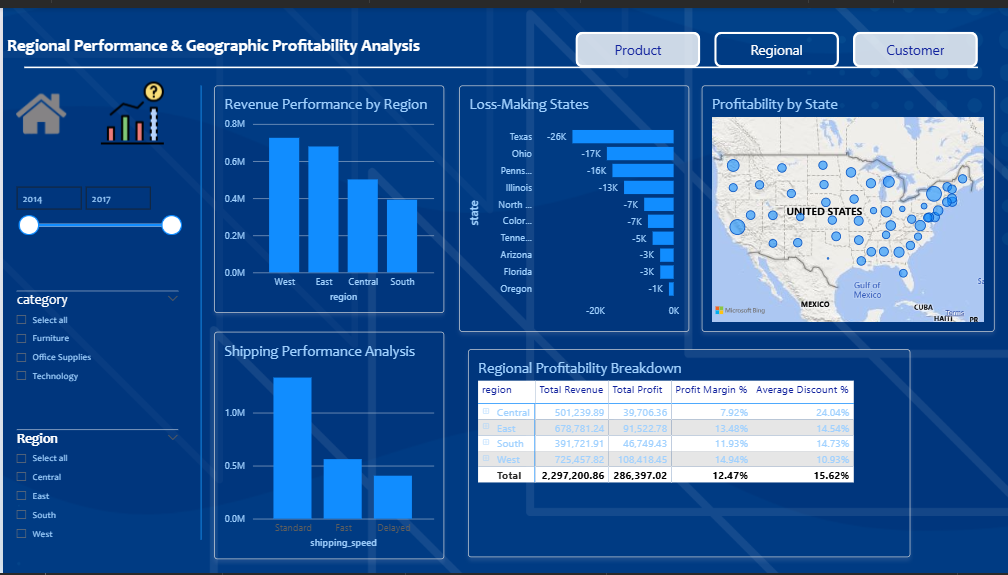

What the dashboard file says about the page in this screenshot:
{"tool":"powerbi","page":{"name":"Regional Performance","canvas":[1280,720],"ordinal":3},"visuals":[{"type":"clusteredColumnChart","title":"Revenue Performance by Region","fields":{"Category":["superstore_cleaned.region"],"Y":["superstore_cleaned.Total Revenue"]},"box":[268.6,98.3,293.1,289.4],"z":0},{"type":"map","title":"Profitability by State","fields":{"Category":["superstore_cleaned.state"],"Size":["superstore_cleaned.Total Profit"]},"box":[888.9,98.3,372.6,313.9],"z":1000},{"type":"clusteredBarChart","title":"Loss-Making States","fields":{"Category":["superstore_cleaned.state"],"Y":["superstore_cleaned.Total Profit"]},"box":[580.6,98.3,293.1,313.9],"z":2000},{"type":"clusteredColumnChart","title":"Shipping Performance Analysis","fields":{"Category":["superstore_cleaned.shipping_speed"],"Y":["superstore_cleaned.Total Revenue"]},"box":[268.6,412.3,293.1,289.4],"z":3000},{"type":"pivotTable","title":"Regional Profitability Breakdown","fields":{"Rows":["superstore_cleaned.region","superstore_cleaned.state"],"Values":["superstore_cleaned.Total Revenue","superstore_cleaned.Total Profit","superstore_cleaned.Profit Margin %","superstore_cleaned.Average Discount %"]},"box":[592,435,563.6,264.8],"z":4000},{"type":"group","id":"g1","title":"Group 1","box":[0,29.9,1240.7,51.3],"z":5000},{"type":"textbox","box":[0,29.9,1214.2,51.3],"z":5000,"group":"g1"},{"type":"shape","box":[27.1,8,1214.3,135.3],"z":6000},{"type":"actionButton","box":[728.1,30.2,158.9,45.4],"z":7000,"group":"g1"},{"type":"actionButton","box":[13.2,98.3,100.2,71.9],"z":7000},{"type":"actionButton","box":[905.9,30.2,158.9,45.4],"z":8000,"group":"g1"},{"type":"slicer","fields":{"Values":["superstore_cleaned.order_year"]},"box":[9.5,223.2,221.3,88.9],"z":8000},{"type":"actionButton","box":[1081.8,30.2,158.9,45.4],"z":9000,"group":"g1"},{"type":"slicer","fields":{"Values":["superstore_cleaned.region"]},"box":[9.5,537.1,221.3,183.5],"z":9000},{"type":"slicer","fields":{"Values":["superstore_cleaned.category"]},"box":[9.5,359.3,221.3,149.4],"z":10000},{"type":"shape","box":[175.9,98.3,151.3,578.7],"z":11000},{"type":"actionButton","box":[119.4,85.9,90.7,95.5],"z":12000}]}

Visuals, with their boxes in screenshot pixels (x1, y1, x2, y2), scaled from the page's 1280x720 canvas onto the 1008x575 screenshot:
"Revenue Performance by Region" clusteredColumnChart: (212,79,442,310)
"Profitability by State" map: (700,79,993,329)
"Loss-Making States" clusteredBarChart: (457,79,688,329)
"Shipping Performance Analysis" clusteredColumnChart: (212,329,442,560)
"Regional Profitability Breakdown" pivotTable: (466,347,910,559)
"Group 1" group: (0,24,977,65)
textbox: (0,24,956,65)
shape: (21,6,978,114)
actionButton: (573,24,699,60)
actionButton: (10,79,89,136)
actionButton: (713,24,839,60)
slicer - superstore_cleaned.order_year: (7,178,182,249)
actionButton: (852,24,977,60)
slicer - superstore_cleaned.region: (7,429,182,574)
slicer - superstore_cleaned.category: (7,287,182,406)
shape: (139,79,258,541)
actionButton: (94,69,165,145)
